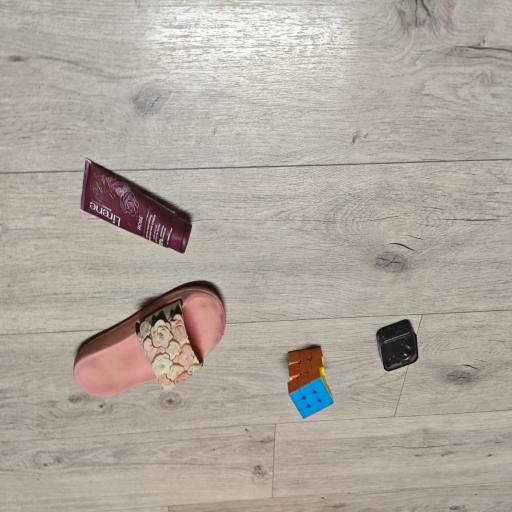Hand Cream: (79, 158, 194, 254)
Rubiks Cube: (286, 342, 334, 418)
